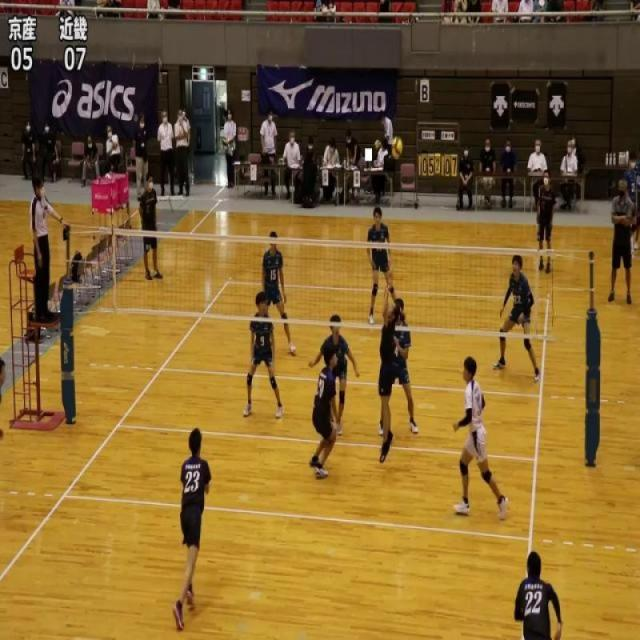volleyball: (391, 135, 404, 160)
